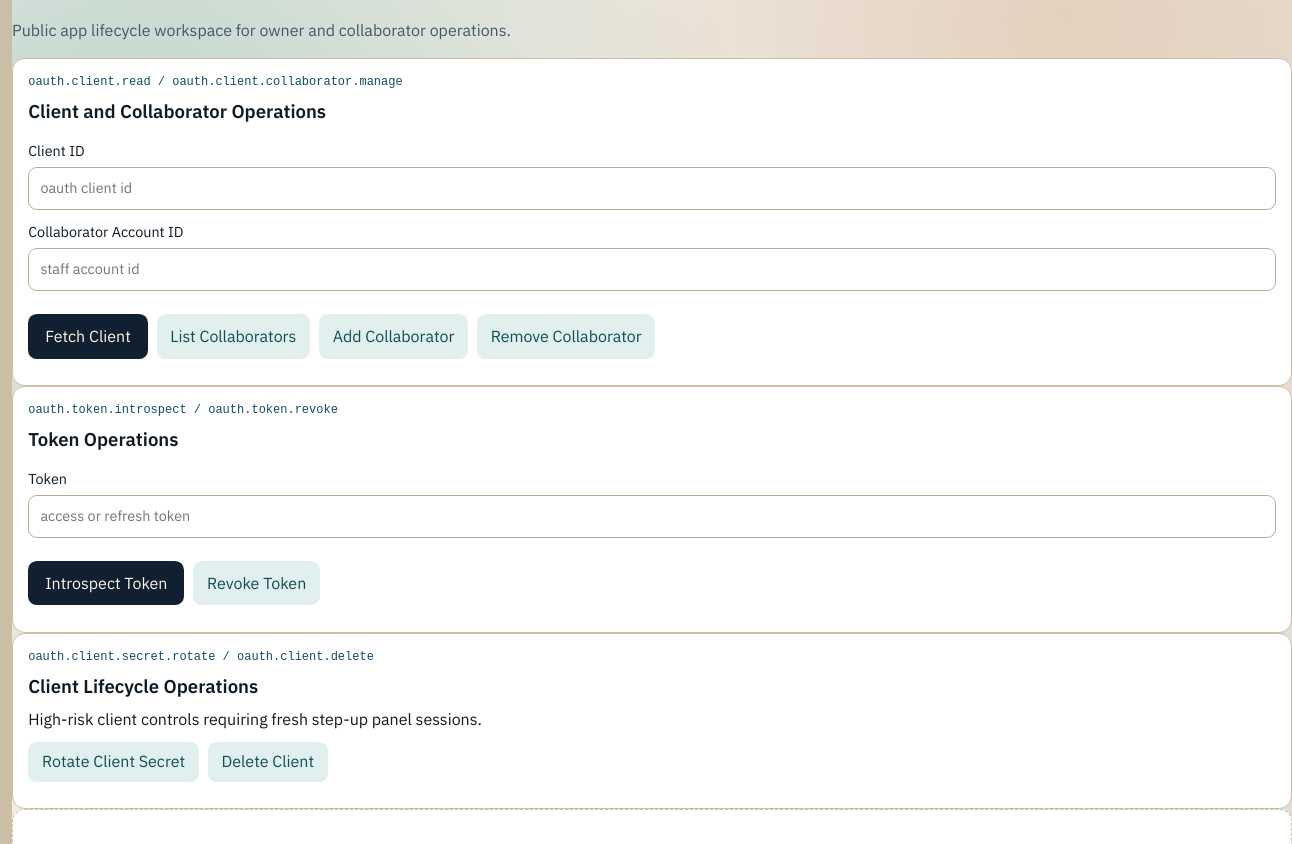
Scenario: AdminHomePage › shows a guard error when signed identity is missing
Type "client-123" into the field with placeholder "oauth client id". click: [652, 188]
box: [28,167,1276,210]
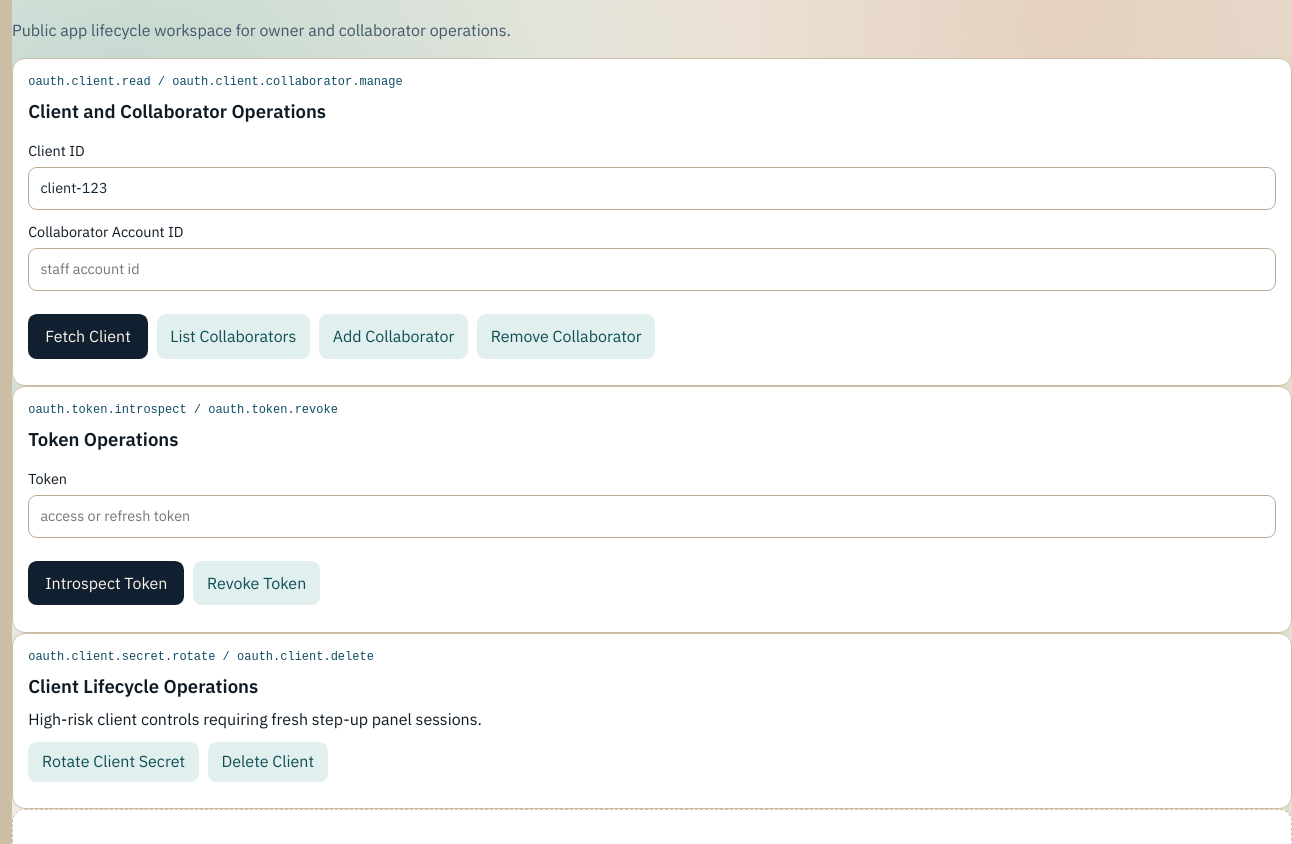
Click the button "Fetch Client". click: [88, 336]
box: [28,314,148,358]
(page scrolled)
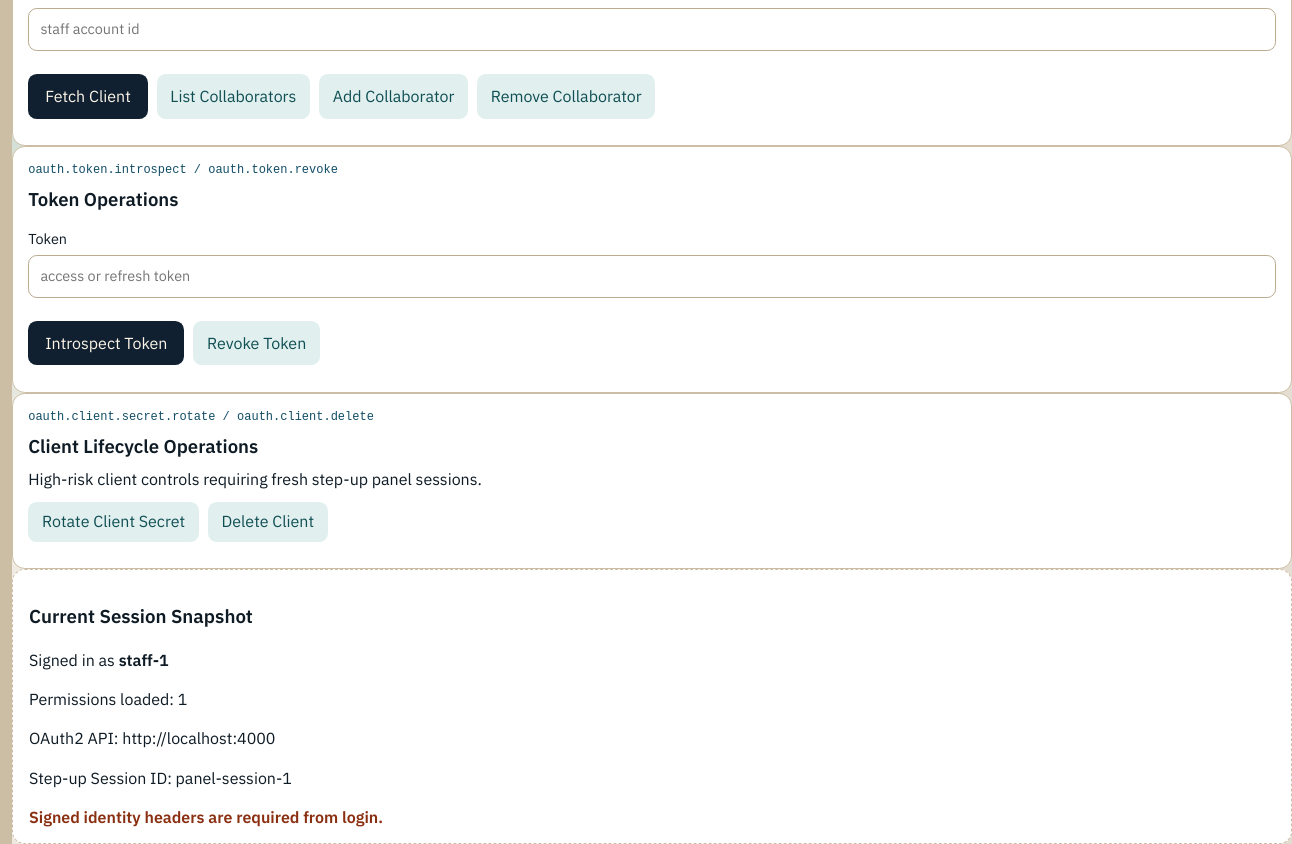
Now the text "Signed identity headers are required from login." is shown, box [29,807,383,827]
